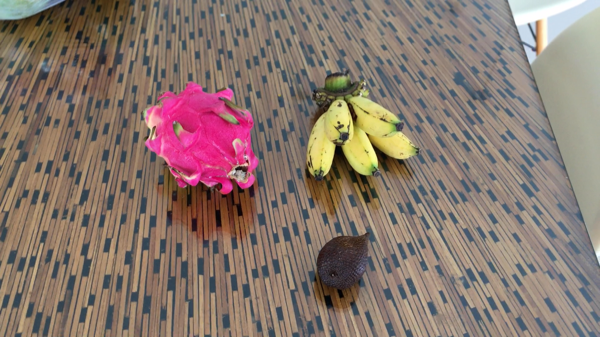banana: (306, 71, 423, 185)
dragon fruit: (143, 82, 264, 198)
snake fruit: (317, 229, 376, 290)
